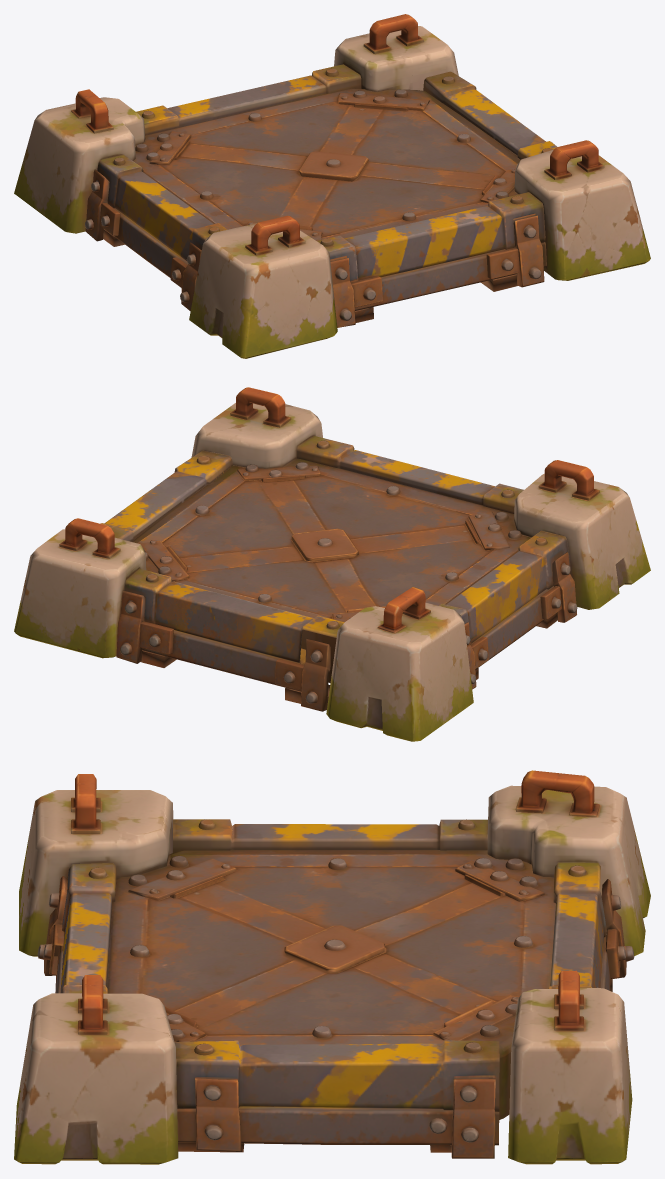
File: Tower+Platform.fbx
3 renders of one model, top to bottom at view 1: azimuth 30°, elevation 25°; view 2: azimuth 150°, elevation 25°; view 3: azimuth 270°, elevation 25°, orthographic. The views are drawn at different scales.
Visible parts, largest first — view 1: tripo_85b153b9_1971_4bb7_b2ee_1c84296026a2; view 2: tripo_85b153b9_1971_4bb7_b2ee_1c84296026a2; view 3: tripo_85b153b9_1971_4bb7_b2ee_1c84296026a2.
Boxes of the visible parts, x1,y1,x2,y2 form: tripo_85b153b9_1971_4bb7_b2ee_1c84296026a2: (14, 14, 650, 358); tripo_85b153b9_1971_4bb7_b2ee_1c84296026a2: (14, 387, 650, 741); tripo_85b153b9_1971_4bb7_b2ee_1c84296026a2: (14, 770, 650, 1164).
Bounding box in the file's own units: 0.9995 × 0.2622 × 0.9839.
1 material, 1 textured.
